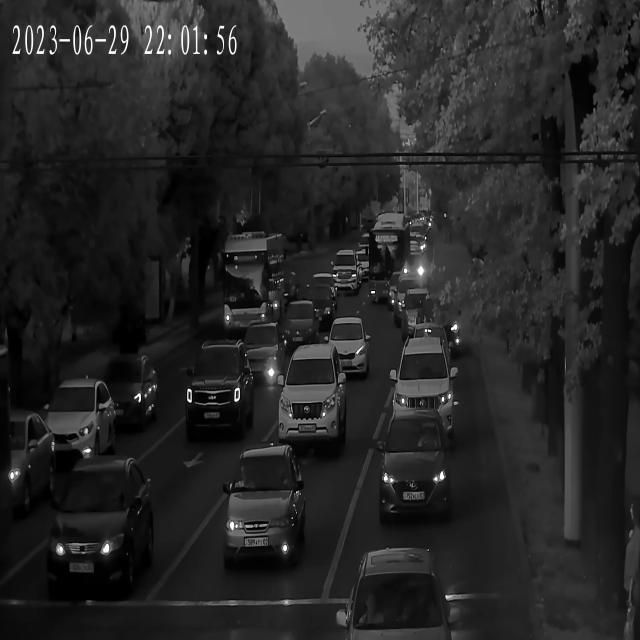Bus: (222, 235, 283, 336), (368, 215, 414, 302)
Car: (44, 455, 155, 596), (340, 542, 453, 640), (225, 447, 307, 569), (377, 411, 454, 529), (278, 343, 344, 457), (180, 341, 253, 442), (45, 377, 115, 472), (396, 336, 454, 443), (1, 411, 53, 509), (102, 354, 162, 427), (241, 322, 286, 384), (328, 321, 369, 379), (281, 295, 319, 355), (395, 272, 432, 326), (404, 288, 441, 338), (302, 279, 337, 323), (332, 248, 360, 297)
